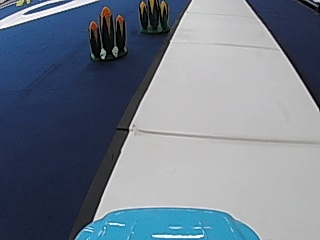corn: (87, 4, 129, 60), (136, 0, 170, 33)
